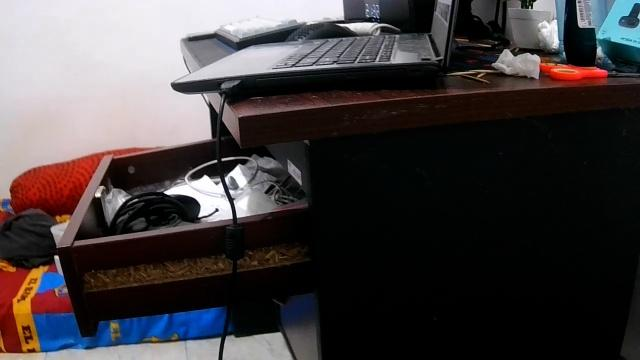Meja: (178, 23, 639, 179)
